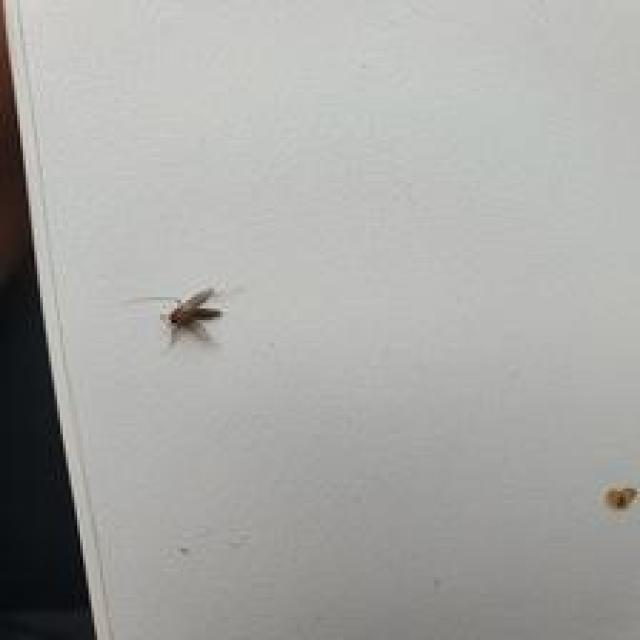Culex: (160, 286, 223, 346)
